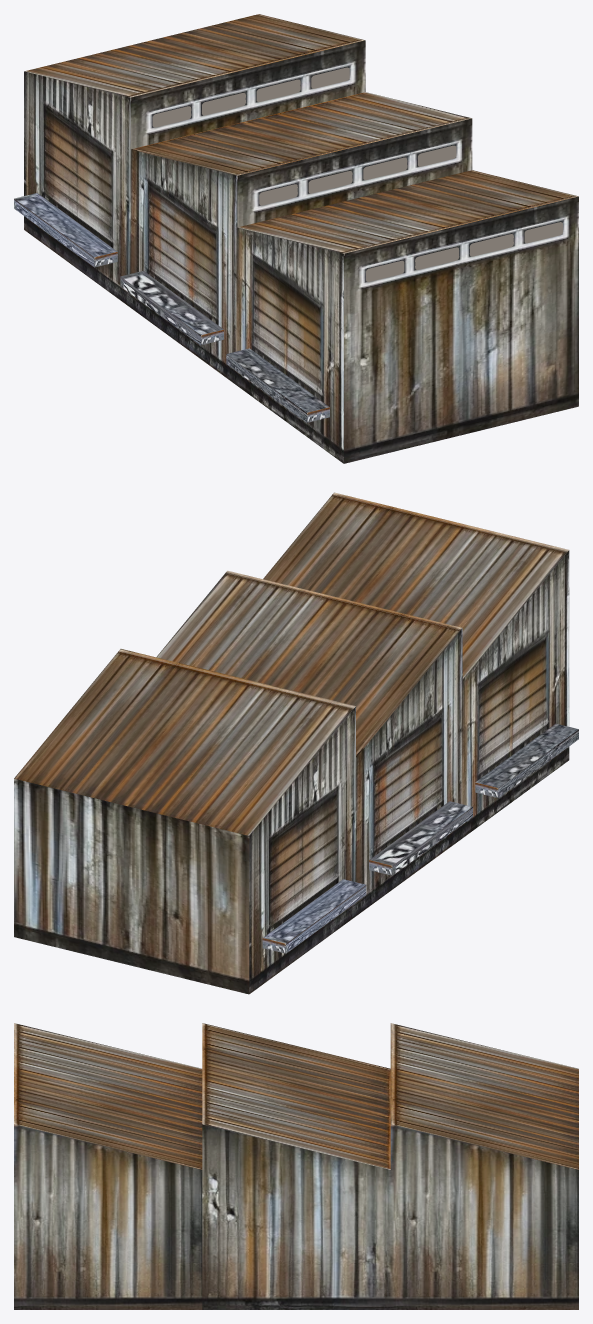
Rendered from civstorageb_hdtex.glb.
3 renders of one model, top to bottom at view 1: azimuth 30°, elevation 25°; view 2: azimuth 150°, elevation 25°; view 3: azimuth 270°, elevation 25°, orthographic. The views are drawn at different scales.
Visible parts, largest first — view 1: Box01, LitWin_CivStorageB; view 2: Box01, LitWin_CivStorageB; view 3: Box01.
Part boxes in pixels (x1=…): Box01: x1=14, y1=14, x2=578, y2=463; LitWin_CivStorageB: x1=130, y1=40, x2=574, y2=281; Box01: x1=14, y1=492, x2=578, y2=994; LitWin_CivStorageB: x1=121, y1=495, x2=565, y2=707; Box01: x1=14, y1=1023, x2=578, y2=1309.
Size of the model in its own units: 6.85 by 5.33 by 14.69.
1 material, 1 textured.
